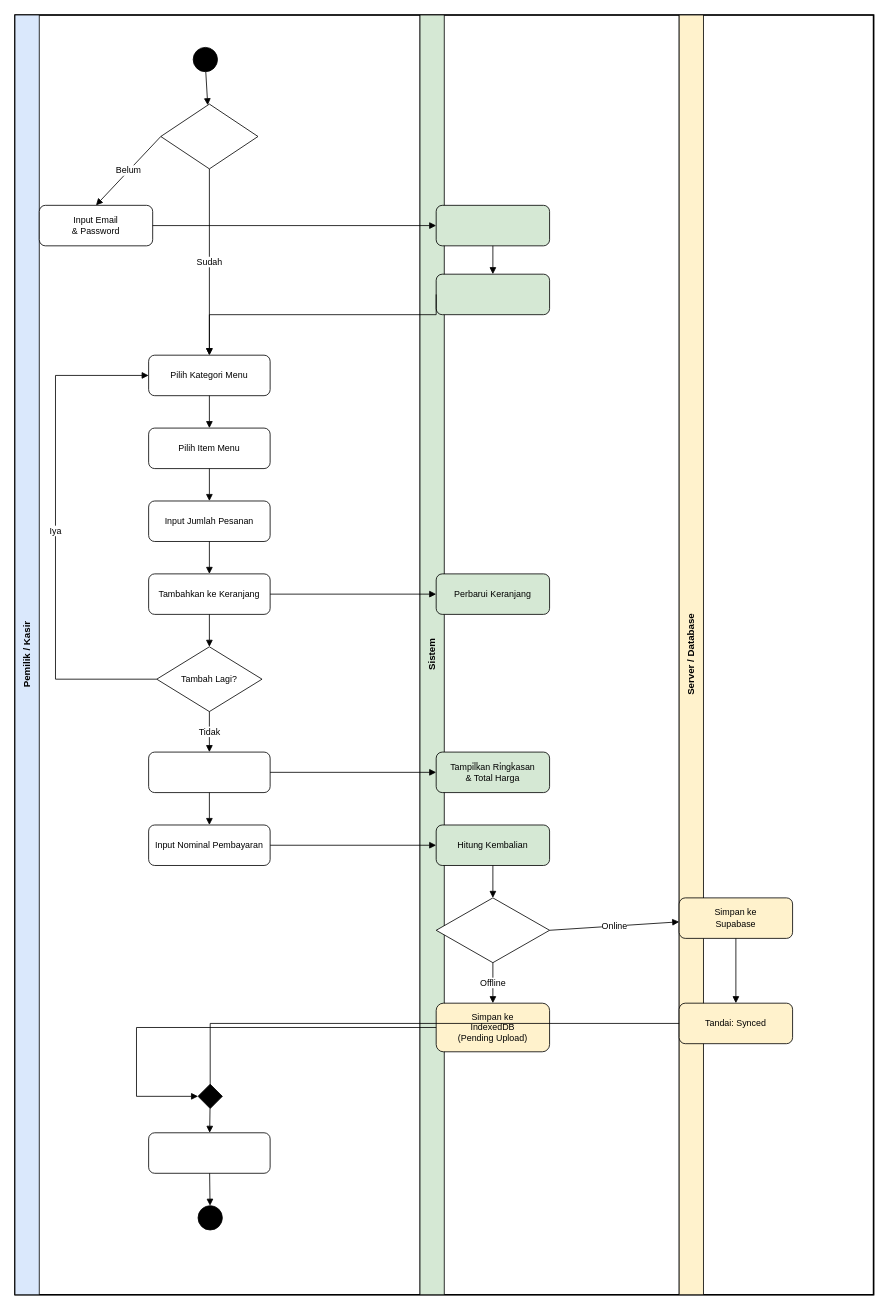
Image size: 888x1309. Some labels were removed from this diagram. The box of each missing label's shape, as (x1, y1, x2, y2) in pixels:
Checkout / Catat Pesanan: (148, 751, 270, 793)
Online?: (435, 897, 550, 963)
Opsi Cetak Struk (Opsional): (148, 1132, 270, 1173)
Sudah Login?: (160, 103, 258, 169)
Tampilkan Halaman Beranda: (435, 273, 550, 315)
Validasi Kredensial: (435, 205, 550, 246)
